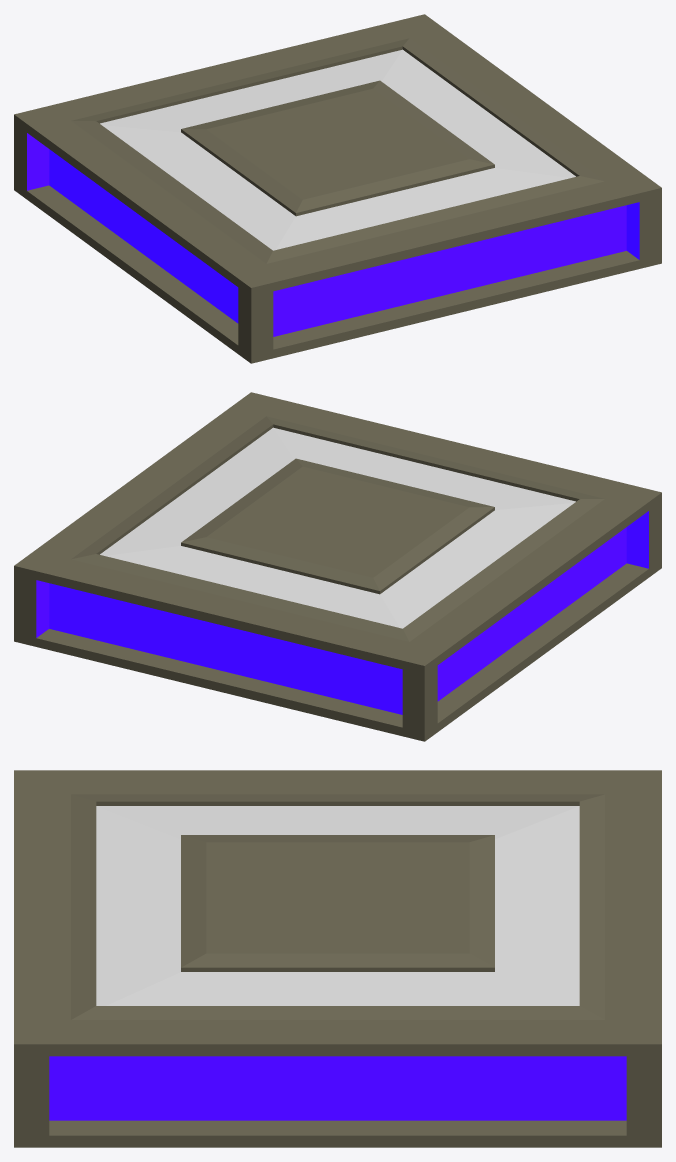
Rendered from floating_panel.fbx.
3 views of the same model, one above another, from view 1: azimuth 30°, elevation 25°; view 2: azimuth 150°, elevation 25°; view 3: azimuth 270°, elevation 25° (orthographic). The views are drawn at different scales.
Parts seen in each view (by area): view 1: Cube; view 2: Cube; view 3: Cube.
Boxes of the visible parts, box(x1,y1,x2,y2) form: Cube: box(14, 14, 661, 363); Cube: box(14, 392, 661, 741); Cube: box(14, 770, 661, 1147).
Size of the model in its own units: 764 by 147 by 764.
